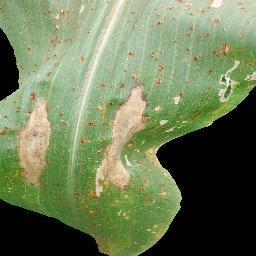Corn_Common_Rust: (65, 109, 234, 255), (65, 1, 256, 109), (0, 0, 64, 213)
